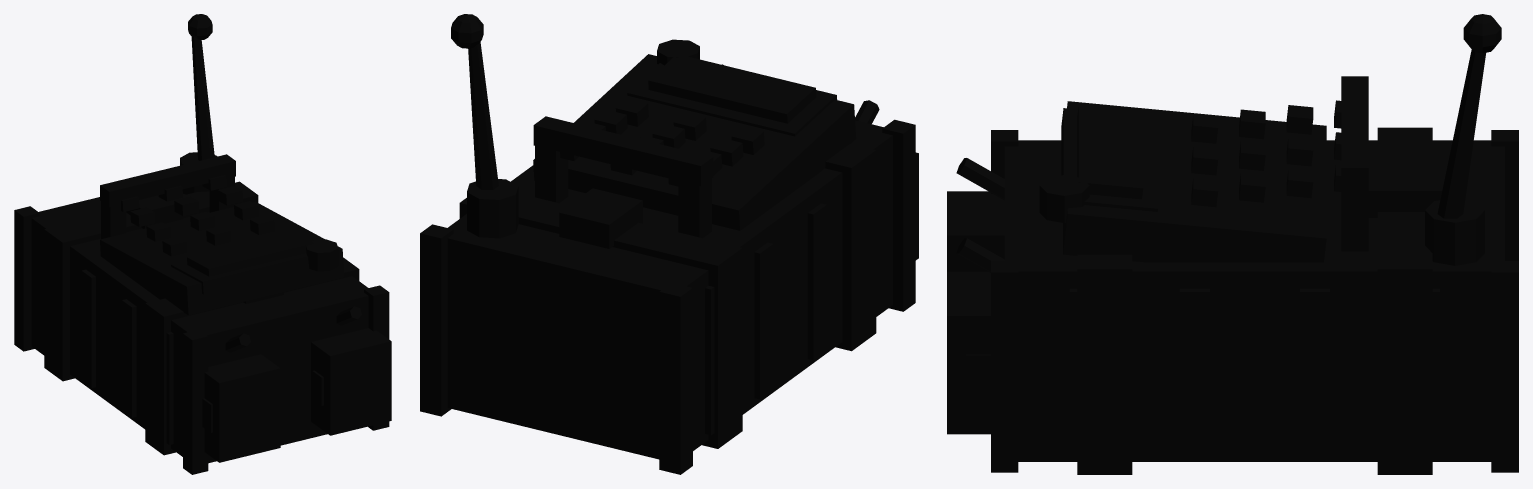
The picture shows the model from 3 angles, left to right: view 1: azimuth 30°, elevation 25°; view 2: azimuth 150°, elevation 25°; view 3: azimuth 270°, elevation 25°; orthographic projection. The views are drawn at different scales.
Parts seen in each view (by area): view 1: bomb; view 2: bomb; view 3: bomb.
Boxes of the visible parts, <box> form: bomb: <box>14,14,391,474</box>; bomb: <box>420,14,918,474</box>; bomb: <box>947,14,1518,474</box>.
Bounding box in the file's own units: 0.2009 × 0.2907 × 0.34.
Materials: 1 (1 with a texture image).
